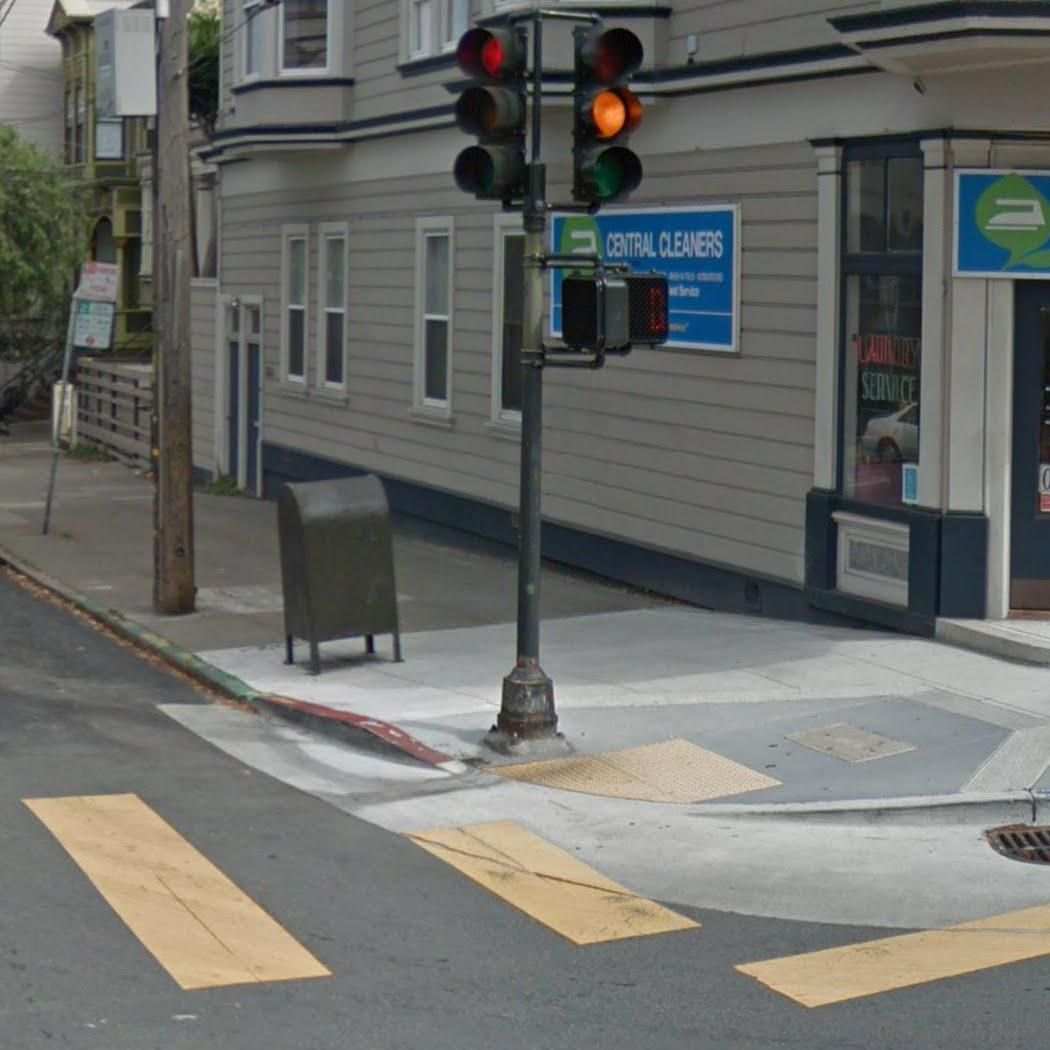2 Hour Parking: (71, 300, 115, 351)
No Parking: (76, 259, 122, 302)
